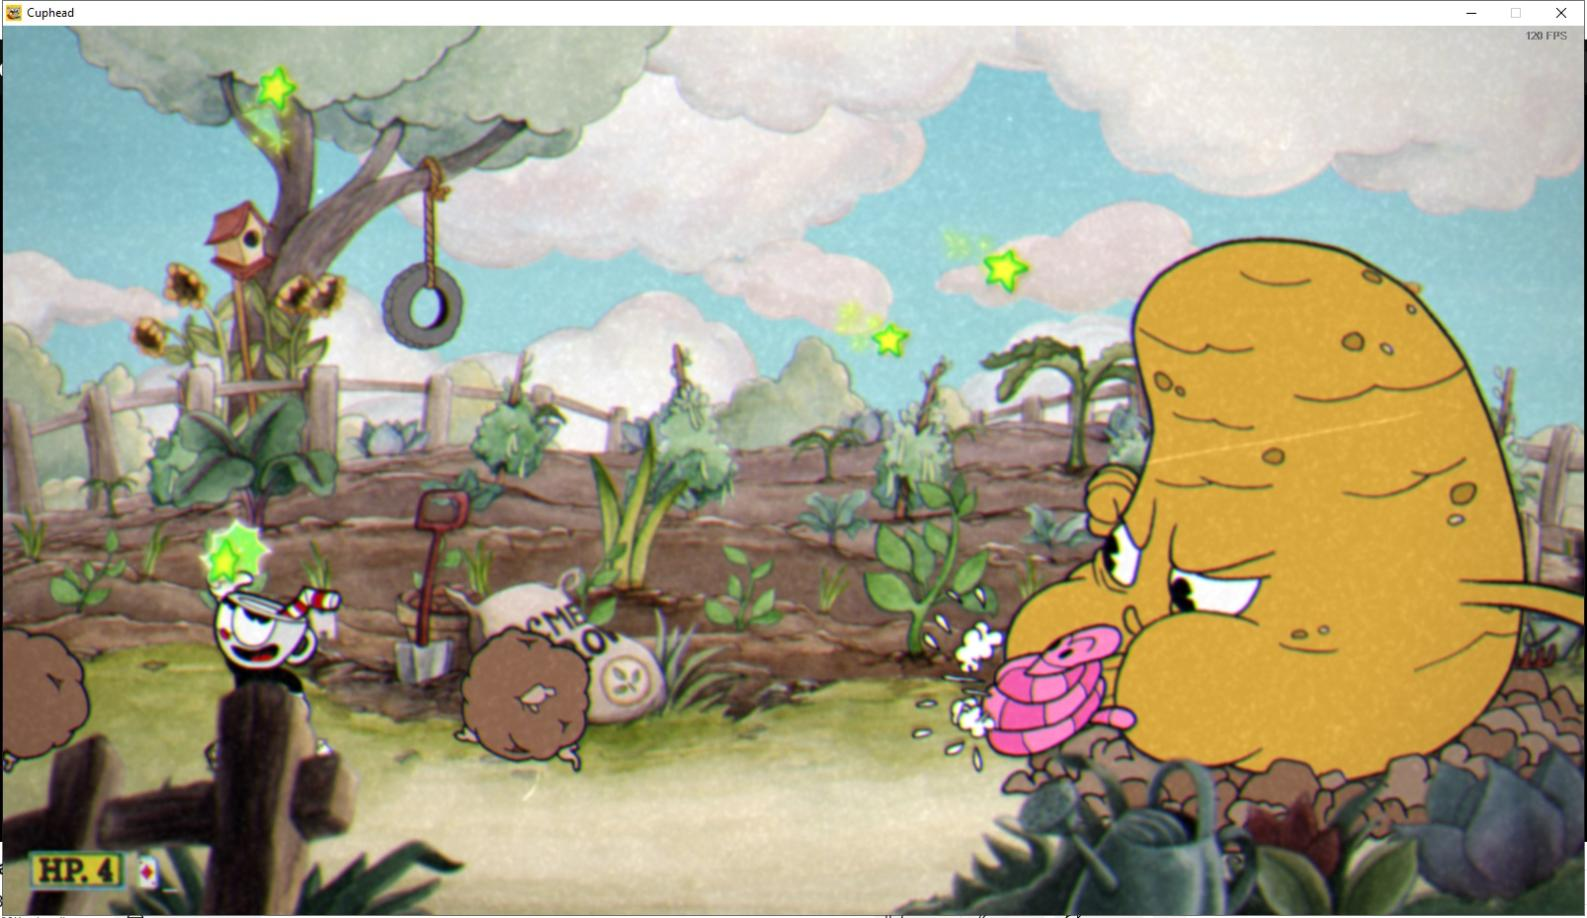dirt: (446, 623, 607, 779), (0, 610, 104, 782)
player: (188, 558, 354, 786)
potato_boss: (995, 231, 1556, 809)
worm: (961, 614, 1149, 764)
